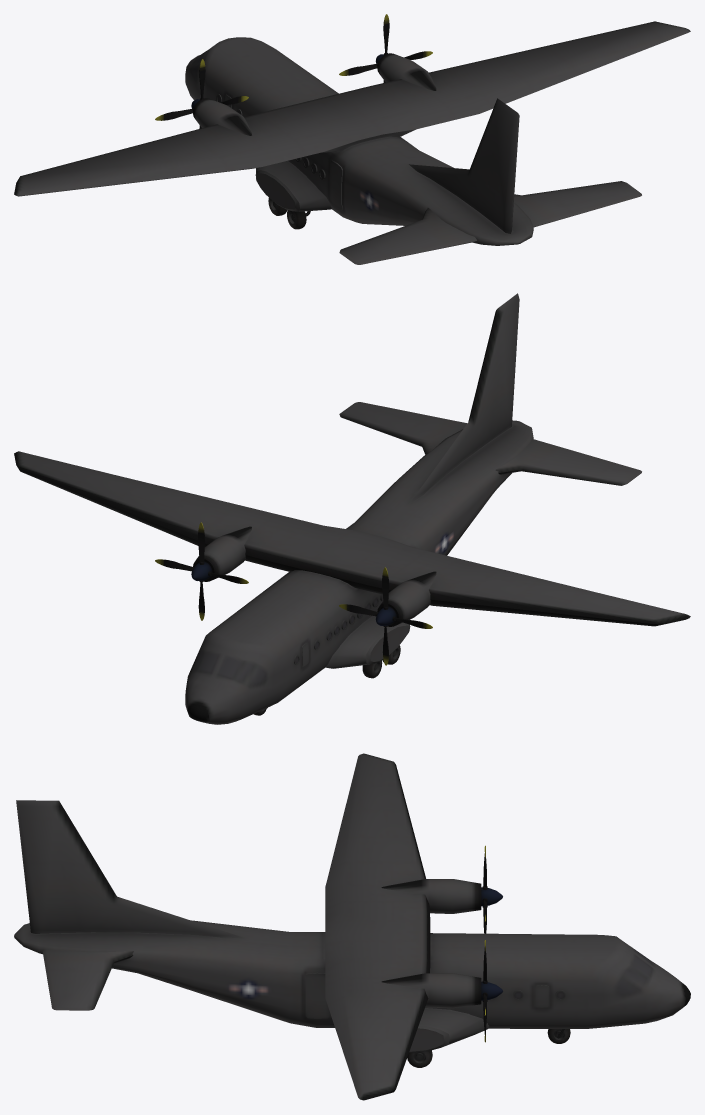
File: casa_235.DAE
The picture shows the model from 3 angles, top to bottom: view 1: azimuth 30°, elevation 25°; view 2: azimuth 150°, elevation 25°; view 3: azimuth 270°, elevation 25°; orthographic projection. The views are drawn at different scales.
Visible parts, largest first — view 1: hull casa-212; view 2: hull casa-212; view 3: hull casa-212.
Part boxes in pixels (<box>): hull casa-212: <box>14,14,690,264</box>; hull casa-212: <box>14,293,690,724</box>; hull casa-212: <box>14,753,690,1100</box>.
Bounding box in the file's own units: 26.15 × 8.57 × 21.67.
1 material, 1 textured.
